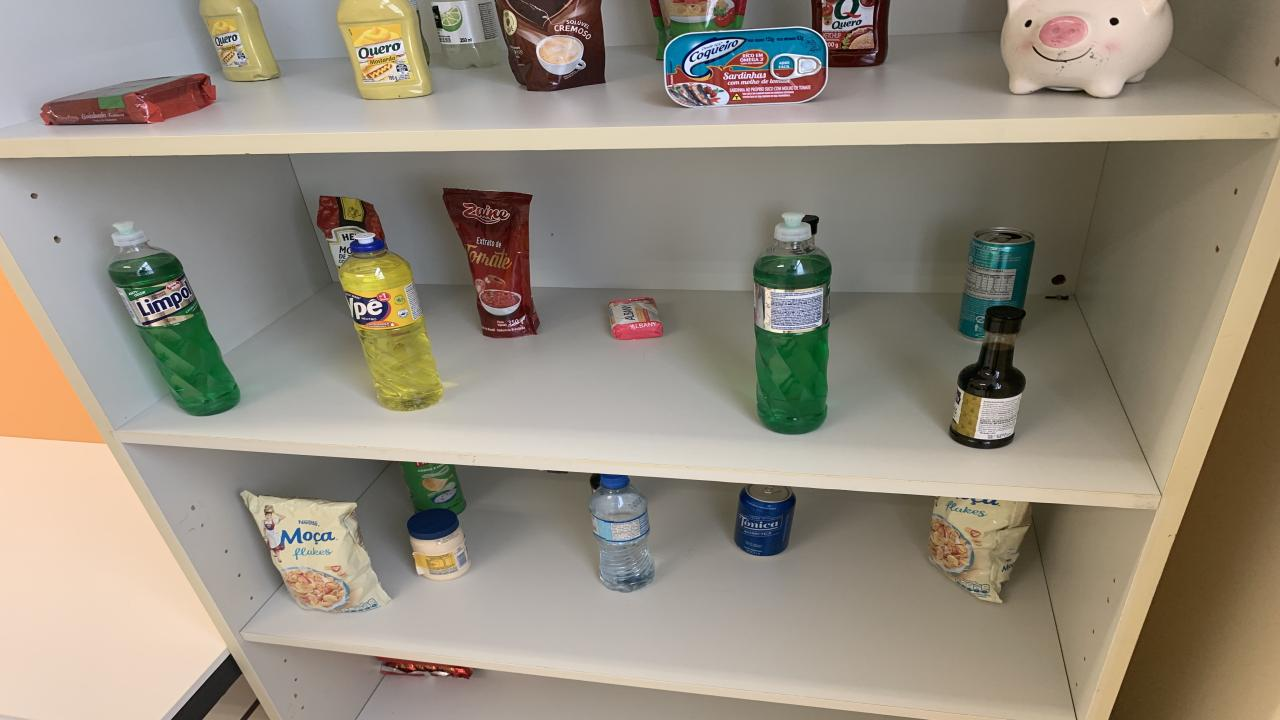Coffee-Pantry_Items: (498, 0, 605, 92)
Detergent-Cleanup_Items: (108, 221, 240, 416), (338, 234, 442, 411), (752, 212, 832, 433)
English_Sauce-Pantry_Items: (950, 306, 1025, 448)
Flakes-Snacks: (242, 491, 390, 613), (930, 497, 1032, 604)
Guava-Snacks: (40, 73, 215, 126)
Ketchup-Pantry_Items: (812, 0, 890, 68)
Mayonnaise-Pantry_Items: (408, 508, 470, 581)
Mustard-Pantry_Items: (335, 0, 432, 99), (200, 0, 280, 81)
Pig_Safe-Miscellaneous: (1000, 0, 1172, 98)
Pringles-Snacks: (402, 461, 465, 514)
Soap-Cleanup_Items: (608, 298, 662, 339)
Soda-Drinks: (432, 0, 502, 69)
Tea-Drinks: (958, 227, 1035, 339)
Tomato_Sauce-Pantry_Items: (442, 188, 540, 338), (650, 0, 748, 58), (318, 195, 385, 266)
Tonic-Drinks: (735, 484, 795, 555)
Tuna_Can-Pantry_Items: (662, 26, 830, 109)
Water_Bottle-Drinks: (590, 474, 655, 592)
